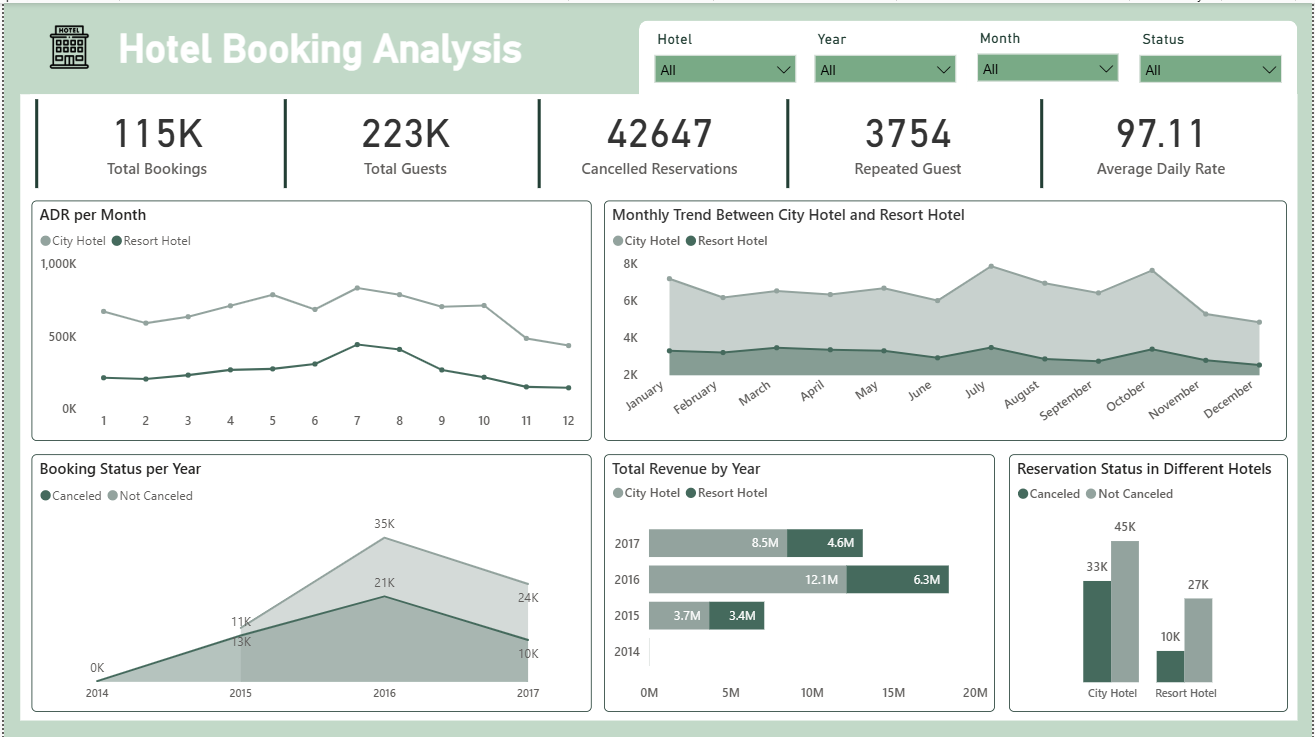

This screenshot's page, from the dashboard's own definition file:
{"tool":"powerbi","page":{"name":"Page 1","canvas":[1280,720],"ordinal":0},"visuals":[{"type":"shape","box":[621.1,16.9,644,83.2],"z":0},{"type":"shape","box":[15.7,89.2,1249.4,612.7],"z":1000},{"type":"slicer","fields":{"Values":["Hotel Booking Analysis.year"]},"box":[782.6,21.7,158.9,80.8],"z":2000},{"type":"areaChart","title":"Monthly Trend Between City Hotel and Resort Hotel","fields":{"Category":["Hotel Booking Analysis.month name"],"Y":["Hotel Booking Analysis.Total Bookings"],"Series":["Hotel Booking Analysis.hotel"]},"box":[587.3,193,668.1,235.2],"z":3000},{"type":"cardVisual","fields":{"Data":["Avg(Hotel Booking Analysis.adr)"]},"box":[1008.9,89.2,246.6,97.7],"z":4000,"group":"g1"},{"type":"barChart","title":"Total Revenue by Year","fields":{"Category":["Hotel Booking Analysis.year"],"Y":["Hotel Booking Analysis.Total Revenue"],"Series":["Hotel Booking Analysis.hotel"]},"box":[587.3,441.4,382,252.1],"z":4000},{"type":"slicer","fields":{"Values":["Hotel Booking Analysis.hotel"]},"box":[625.9,21.7,158.9,80.8],"z":5000},{"type":"cardVisual","fields":{"Data":["Hotel Booking Analysis.Total Bookings","Hotel Booking Analysis.Total Guests"]},"box":[25.3,89.2,491.8,97.7],"z":5000,"group":"g1"},{"type":"slicer","fields":{"Values":["Hotel Booking Analysis.month name"]},"box":[941.6,20.5,158.9,79.6],"z":6000},{"type":"cardVisual","fields":{"Data":["Sum(Hotel Booking Analysis.is_canceled)","Sum(Hotel Booking Analysis.is_repeated_guest)"]},"box":[517.1,89.2,491.8,97.7],"z":6000,"group":"g1"},{"type":"image","box":[15.7,16.9,96.5,51.9],"z":7000},{"type":"textbox","box":[86.8,16.9,445,62.7],"z":8000},{"type":"group","id":"g1","title":"Group 1","box":[25.3,89.2,1230.2,97.7],"z":9000},{"type":"areaChart","title":"Booking Status per Year","fields":{"Category":["Hotel Booking Analysis.year"],"Y":["CountNonNull(Hotel Booking Analysis.is_canceled)"],"Series":["Hotel Booking Analysis.Booking Status"]},"box":[26.5,441.4,548,252.1],"z":10000},{"type":"slicer","fields":{"Values":["Hotel Booking Analysis.Booking Status"]},"box":[1100.5,21.7,159.8,80.8],"z":11000},{"type":"lineChart","title":"ADR per Month","fields":{"Category":["Hotel Booking Analysis.month"],"Y":["Sum(Hotel Booking Analysis.adr)"],"Series":["Hotel Booking Analysis.hotel"]},"box":[26.5,193,548,235],"z":12000},{"type":"clusteredColumnChart","title":"Reservation Status in Different Hotels","fields":{"Category":["Hotel Booking Analysis.hotel"],"Y":["Hotel Booking Analysis.Total Bookings"],"Series":["Hotel Booking Analysis.Booking Status"]},"box":[982.9,441.4,272.6,252.1],"z":13000}]}

Visuals, with their boxes in screenshot pixels (x1, y1, x2, y2), scaled from the page's 1280x720 canvas onto the 1315x737 screenshot:
shape: detection(638, 17, 1300, 102)
shape: detection(16, 91, 1300, 718)
slicer - Hotel Booking Analysis.year: detection(804, 22, 967, 105)
"Monthly Trend Between City Hotel and Resort Hotel" areaChart: detection(603, 198, 1290, 438)
cardVisual - Avg(Hotel Booking Analysis.adr): detection(1036, 91, 1290, 191)
"Total Revenue by Year" barChart: detection(603, 452, 996, 710)
slicer - Hotel Booking Analysis.hotel: detection(643, 22, 806, 105)
cardVisual - Hotel Booking Analysis.Total Bookings x Hotel Booking Analysis.Total Guests: detection(26, 91, 531, 191)
slicer - Hotel Booking Analysis.month name: detection(967, 21, 1131, 102)
cardVisual - Sum(Hotel Booking Analysis.is_canceled) x Sum(Hotel Booking Analysis.is_repeated_guest): detection(531, 91, 1036, 191)
image: detection(16, 17, 115, 70)
textbox: detection(89, 17, 546, 81)
"Group 1" group: detection(26, 91, 1290, 191)
"Booking Status per Year" areaChart: detection(27, 452, 590, 710)
slicer - Hotel Booking Analysis.Booking Status: detection(1131, 22, 1295, 105)
"ADR per Month" lineChart: detection(27, 198, 590, 438)
"Reservation Status in Different Hotels" clusteredColumnChart: detection(1010, 452, 1290, 710)
